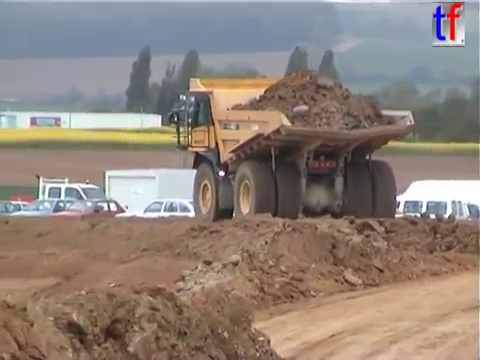truck: (165, 74, 420, 231)
